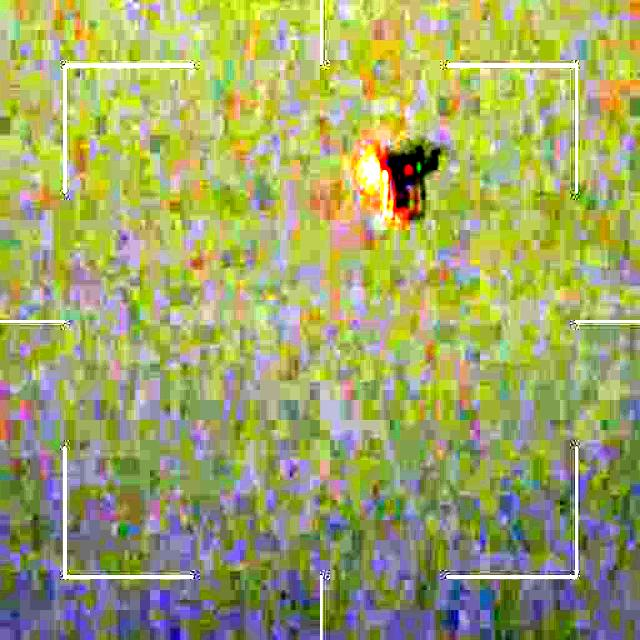bird: (355, 142, 434, 222)
